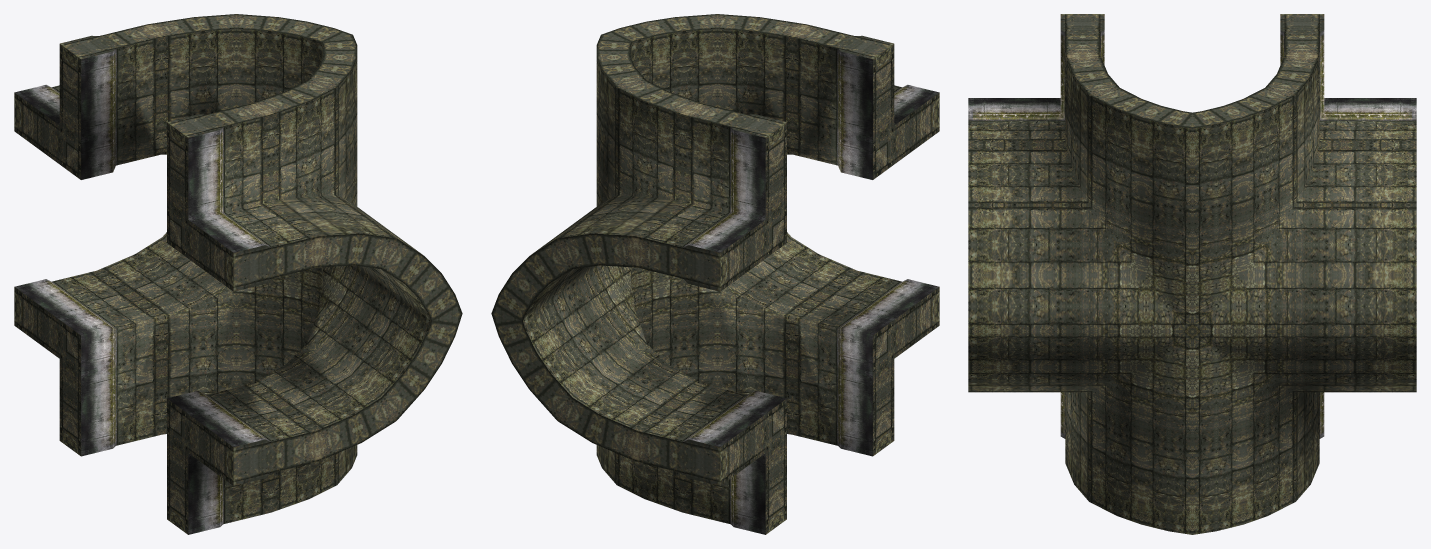
The model's file is Lab_ArcCross.gltf.
3 views of the same model, side by side, from view 1: azimuth 30°, elevation 25°; view 2: azimuth 150°, elevation 25°; view 3: azimuth 270°, elevation 25° (orthographic). The views are drawn at different scales.
Visible parts, largest first — view 1: Lab_ArcCross; view 2: Lab_ArcCross; view 3: Lab_ArcCross.
Part boxes in pixels (x1=…): Lab_ArcCross: x1=14, y1=14, x2=462, y2=534; Lab_ArcCross: x1=491, y1=14, x2=939, y2=534; Lab_ArcCross: x1=968, y1=14, x2=1416, y2=534.
Size of the model in its own units: 0.0494 by 0.0819 by 0.0819.
1 material, 1 textured.
